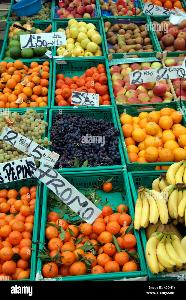apple: (111, 61, 180, 102), (53, 15, 103, 57), (153, 17, 186, 52), (54, 0, 98, 18)
banana: (129, 163, 186, 277)
grape: (44, 109, 118, 169), (0, 112, 48, 170)
orange: (36, 171, 130, 279), (0, 183, 36, 280), (117, 111, 186, 159), (57, 61, 111, 109), (0, 63, 44, 109)
pear: (104, 18, 158, 52), (98, 1, 146, 16)
